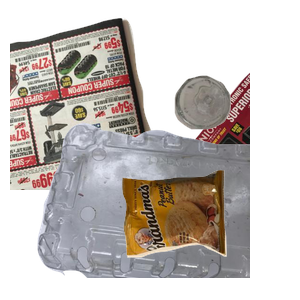glass: (172, 73, 300, 195)
paper: (10, 15, 250, 195)
plastic: (35, 120, 275, 300)
trash: (120, 168, 300, 300)
